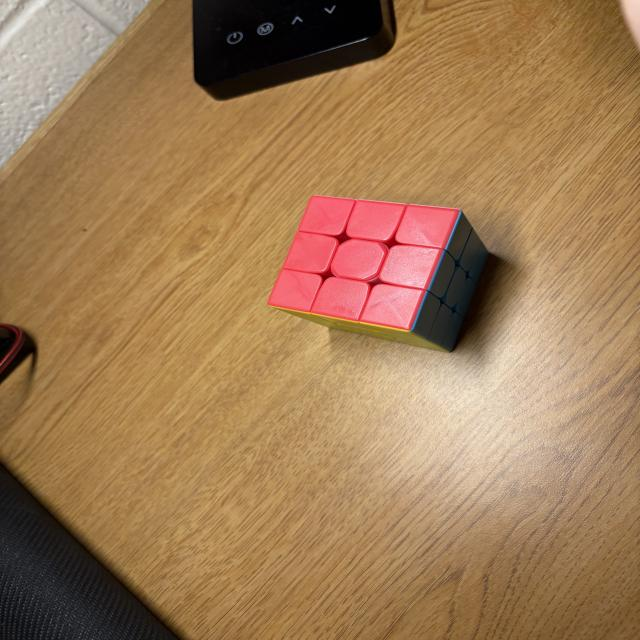Rubiks Cube: (266, 195, 495, 356)
